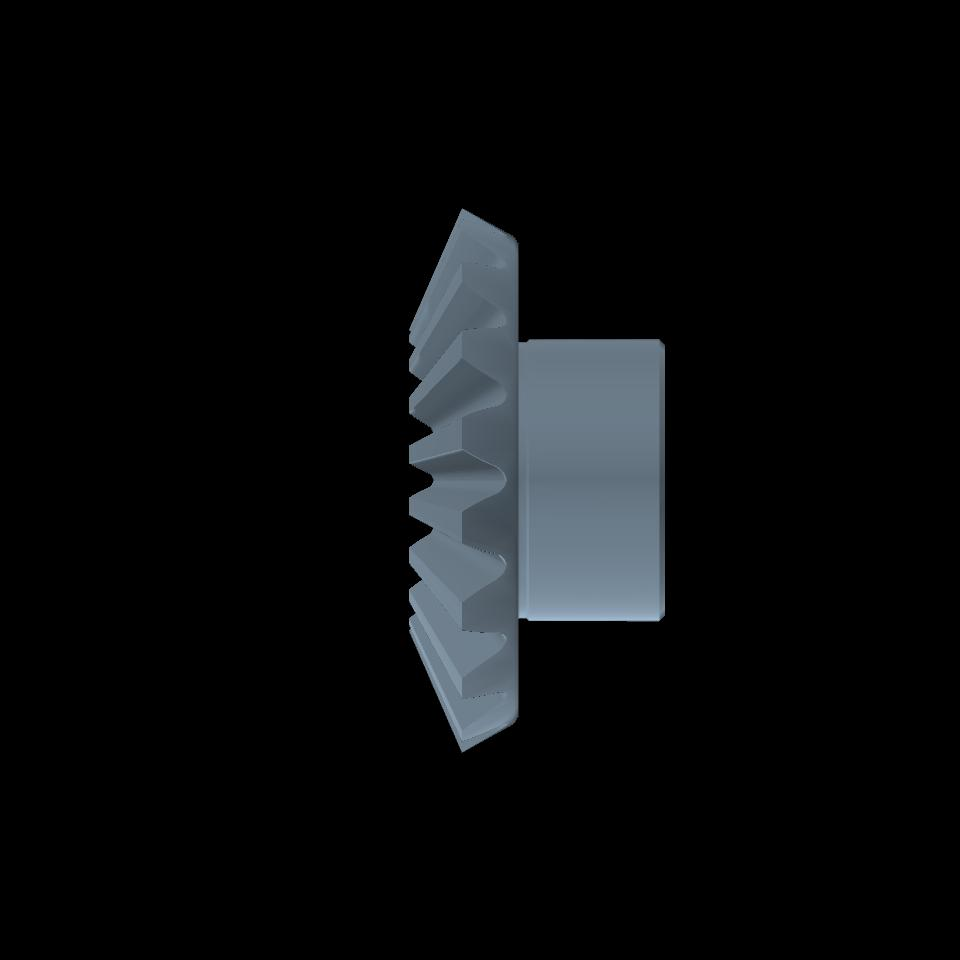Bevel: (409, 208, 518, 753)
